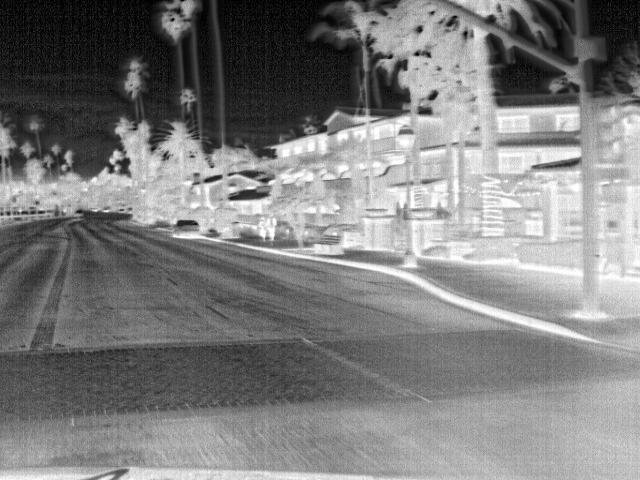car: (171, 219, 201, 239)
person: (264, 212, 279, 242), (257, 213, 270, 243)
